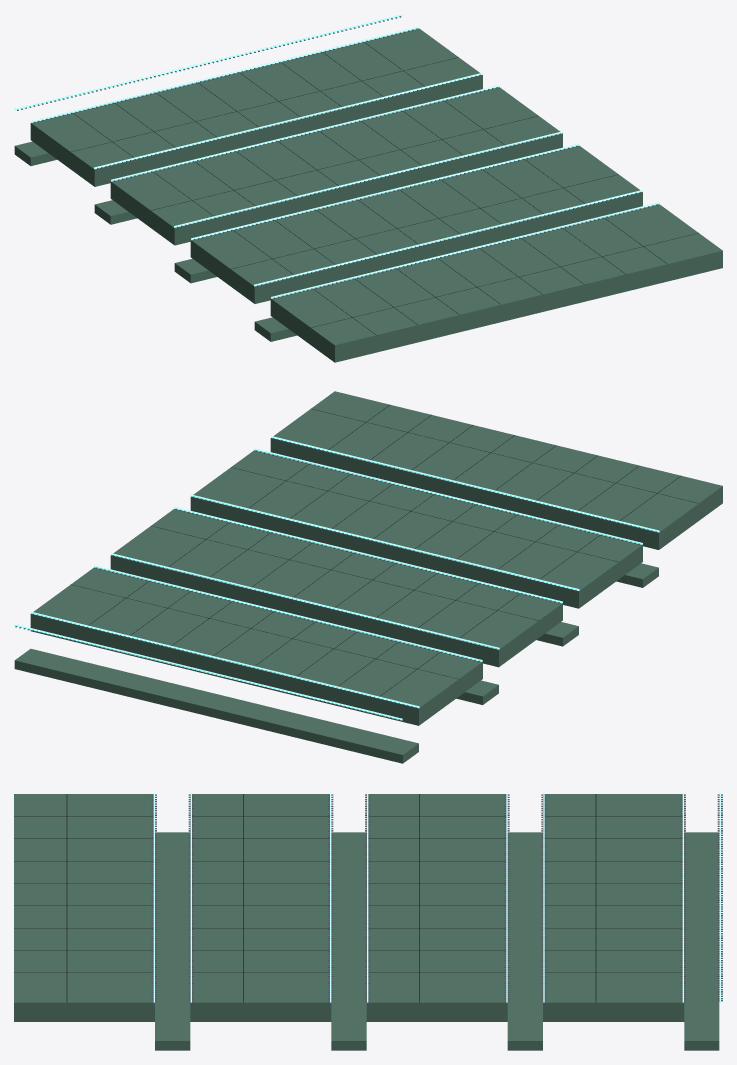
3 views of the same model, one above another, from view 1: azimuth 30°, elevation 25°; view 2: azimuth 150°, elevation 25°; view 3: azimuth 270°, elevation 25° (orthographic). The views are drawn at different scales.
Visible parts, largest first — view 1: p0_m4; view 2: p0_m4; view 3: p0_m4.
Boxes of the visible parts, x1,y1,x2,y2 form: p0_m4: (14,14,722,362); p0_m4: (14,391,722,763); p0_m4: (14,792,722,1050).
Bounding box in the file's own units: 28 × 3.11 × 40.2.
